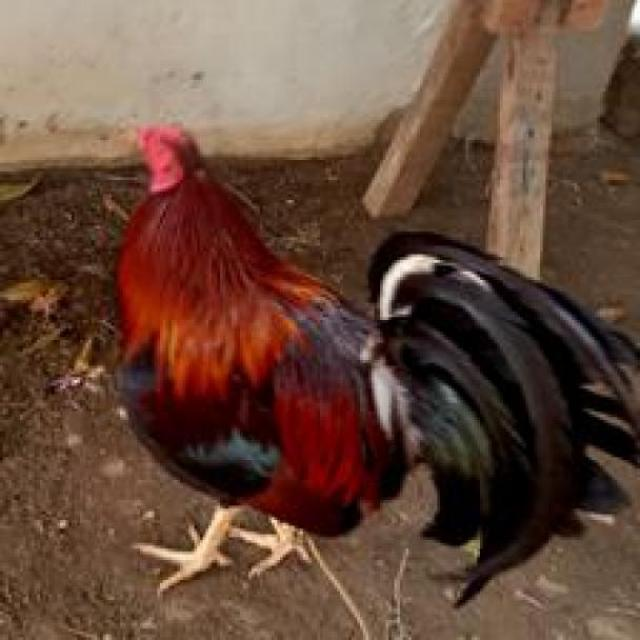Chicken: (106, 106, 639, 636)
